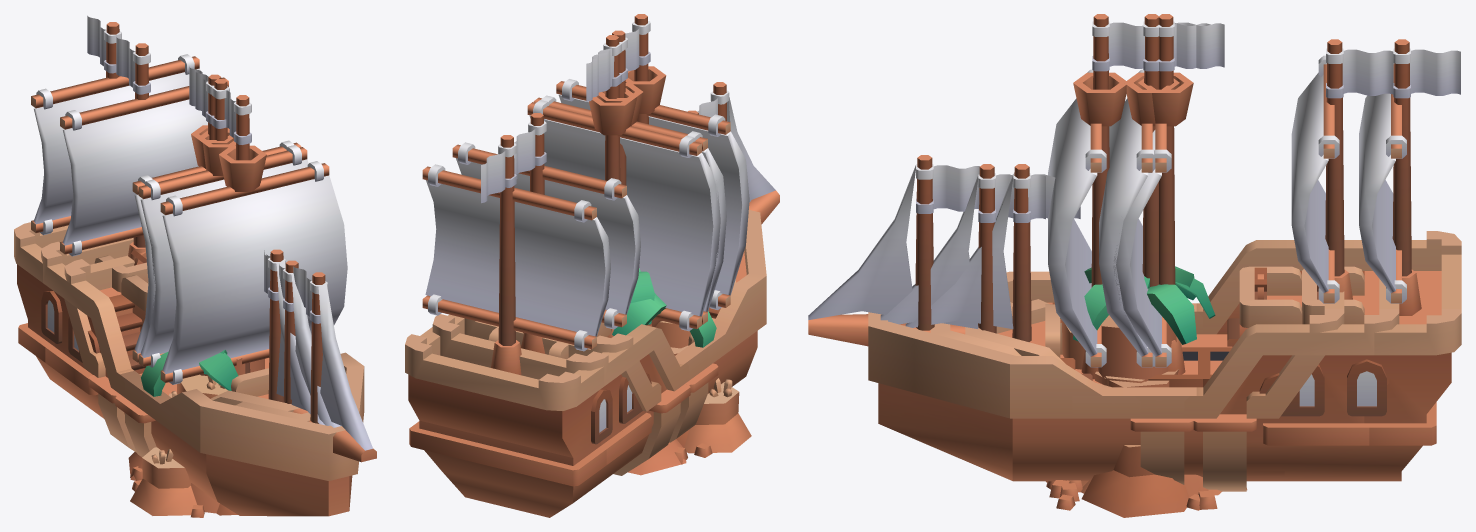
The model's file is kenney.glb.
3 views of the same model, side by side, from view 1: azimuth 30°, elevation 25°; view 2: azimuth 150°, elevation 25°; view 3: azimuth 270°, elevation 25° (orthographic). The views are drawn at different scales.
Visible parts, largest first — view 1: ship-large, sail-a (×3), sail-b (×2), ship-medium, ship-small, rocks-sand-a, flag-c (×2), flag-b (×3), palm-bend, flag-a (×2), rocks-sand-b; view 2: ship-large, sail-b (×2), sail-a (×3), ship-medium, ship-small, rocks-sand-a, flag-b (×3), flag-c (×2), palm-bend, rocks-sand-b, palm-straight, flag-a; view 3: ship-large, ship-medium, sail-a (×3), ship-small, sail-b (×2), rocks-sand-a, flag-c (×2), flag-b (×3), flag-a (×3), palm-straight, rocks-sand-b, rocks-sand-c.
Boxes of the visible parts, bbox=[...] form: ship-large: bbox=[14, 22, 376, 516]; sail-a (×3): bbox=[132, 140, 347, 384]; sail-b (×2): bbox=[31, 54, 231, 256]; ship-medium: bbox=[41, 43, 341, 458]; ship-small: bbox=[64, 74, 324, 425]; rocks-sand-a: bbox=[130, 374, 227, 515]; flag-c (×2): bbox=[87, 15, 150, 94]; flag-b (×3): bbox=[189, 66, 251, 144]; palm-bend: bbox=[141, 351, 238, 396]; flag-a (×2): bbox=[264, 250, 327, 323]; rocks-sand-b: bbox=[128, 358, 264, 517]; ship-large: bbox=[405, 30, 779, 517]; sail-b (×2): bbox=[422, 142, 640, 351]; sail-a (×3): bbox=[527, 79, 749, 331]; ship-medium: bbox=[432, 14, 738, 464]; ship-small: bbox=[464, 35, 718, 431]; rocks-sand-a: bbox=[655, 321, 751, 464]; flag-b (×3): bbox=[586, 21, 650, 101]; flag-c (×2): bbox=[481, 121, 546, 203]; palm-bend: bbox=[612, 268, 716, 347]; rocks-sand-b: bbox=[628, 323, 712, 475]; palm-straight: bbox=[630, 271, 654, 324]; flag-a: bbox=[697, 90, 729, 117]; ship-large: bbox=[808, 14, 1461, 491]; ship-medium: bbox=[880, 14, 1399, 480]; sail-a (×3): bbox=[1048, 69, 1171, 367]; ship-small: bbox=[905, 14, 1344, 484]; sail-b (×2): bbox=[1291, 55, 1406, 303]; rocks-sand-a: bbox=[1046, 318, 1247, 517]; flag-c (×2): bbox=[1326, 48, 1460, 98]; flag-b (×3): bbox=[1092, 21, 1224, 71]; flag-a (×3): bbox=[916, 164, 1080, 222]; palm-straight: bbox=[1073, 266, 1196, 344]; rocks-sand-b: bbox=[1046, 315, 1221, 509]; rocks-sand-c: bbox=[1066, 376, 1208, 510].
Bounding box in the file's own units: 5.11 × 10.01 × 13.1.
16 materials, 1 textured.
